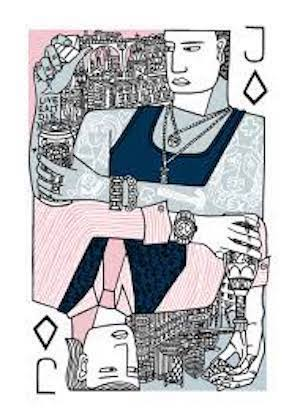JackOfDiamonds: (14, 18, 284, 409)
